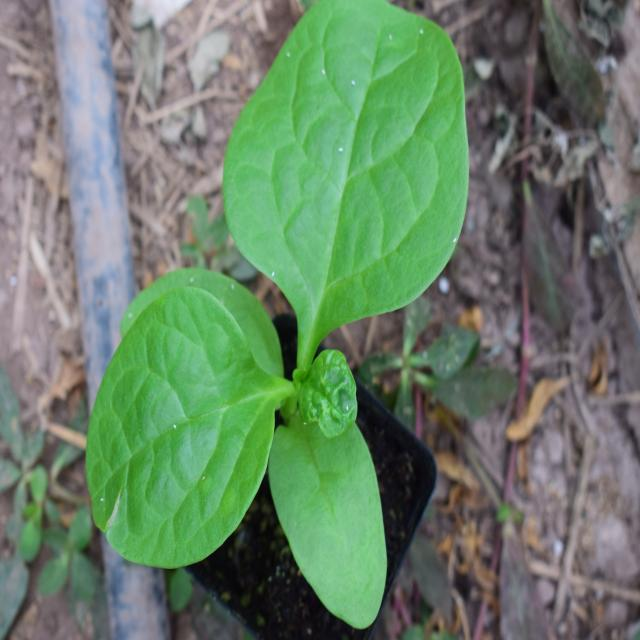Ceylon spinach: (124, 33, 457, 592)
